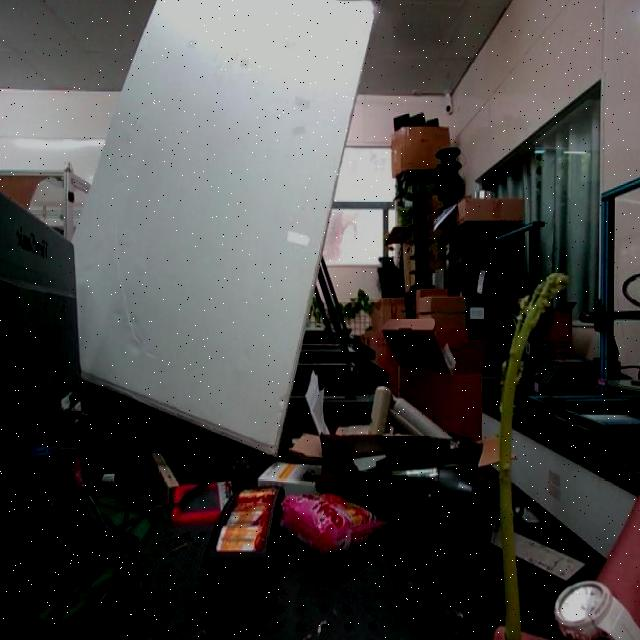aspargus: (497, 274, 569, 640)
